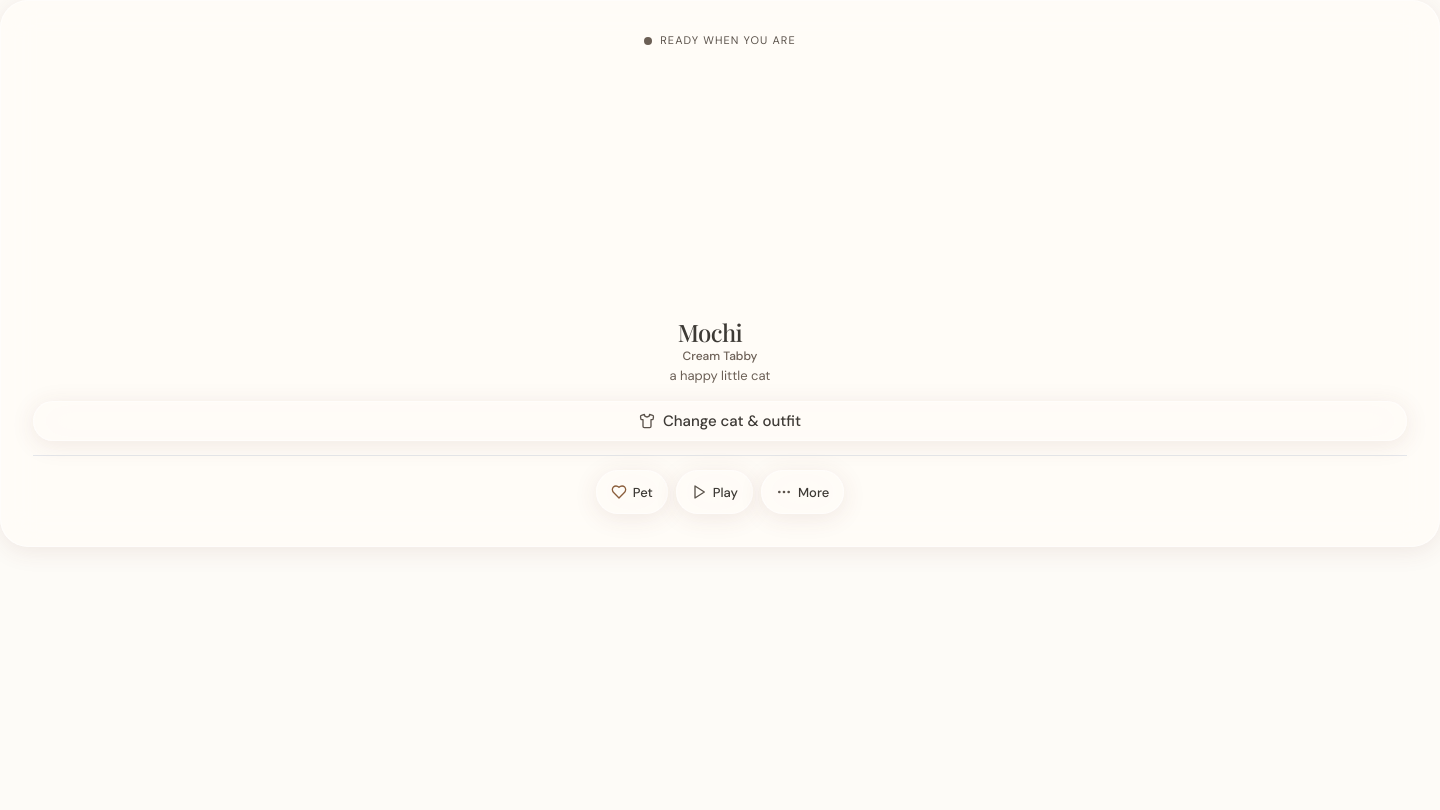
Test case: CatCompanion Component › Sprite and Action Interactions › opens OutfitSheet when Change cat & outfit is clicked
Click the button "Change cat & outfit": (720,421) [33, 401, 1407, 441]
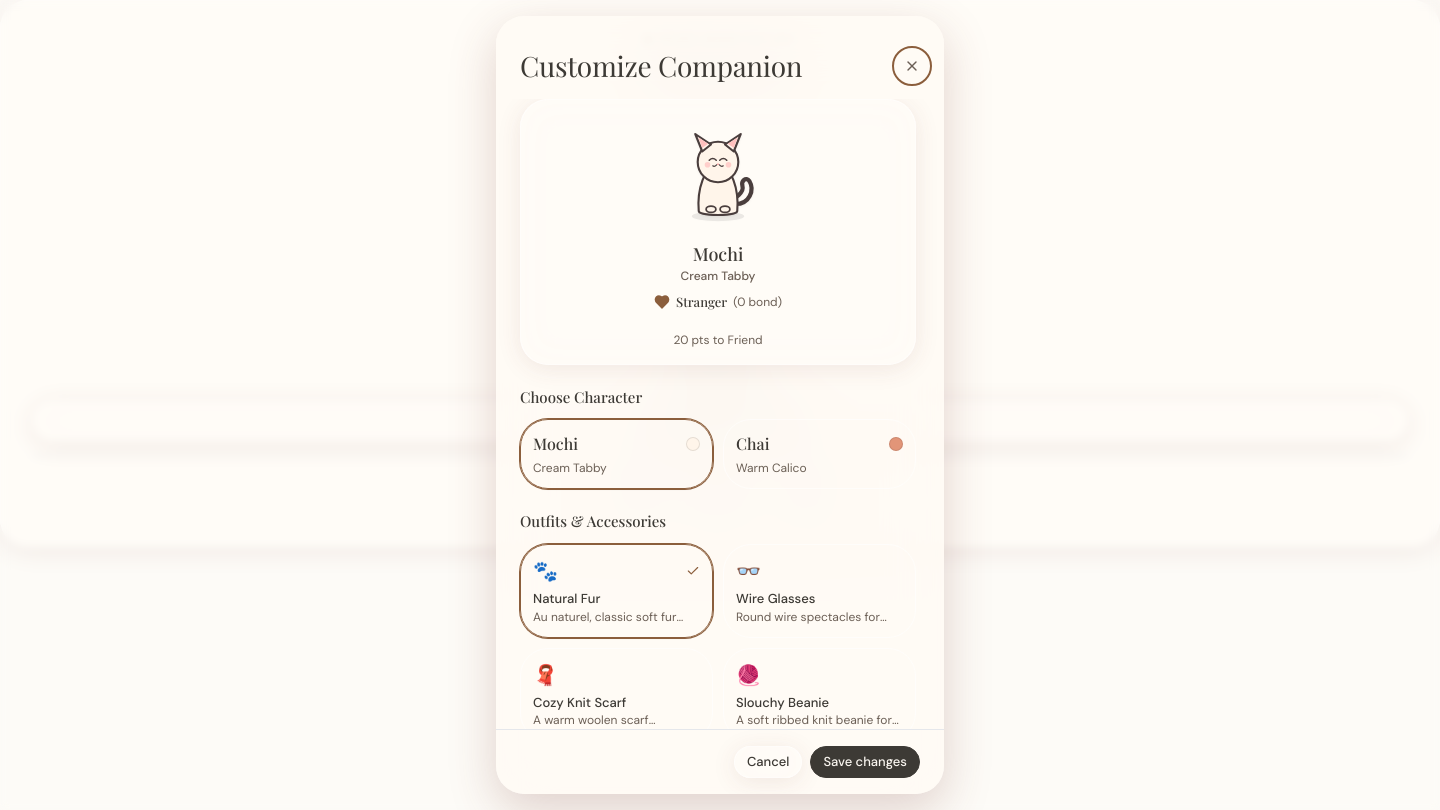
Expected: the heading "Customize Companion" is shown, [520, 48, 802, 83]
